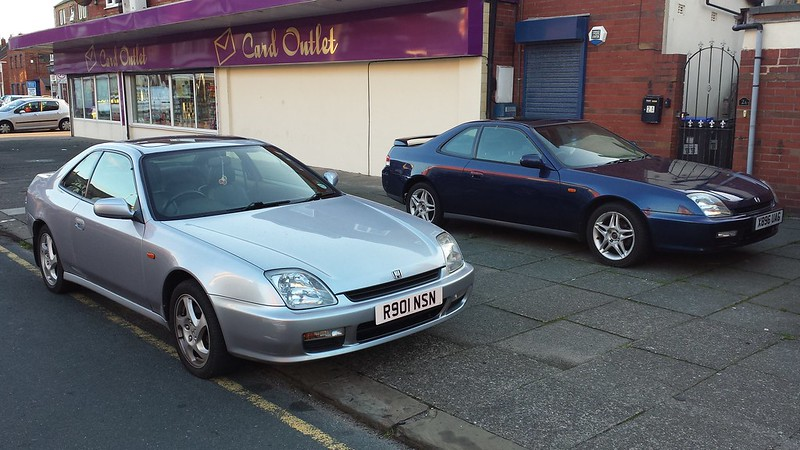number_plate: (355, 287, 484, 328), (741, 208, 794, 234)
